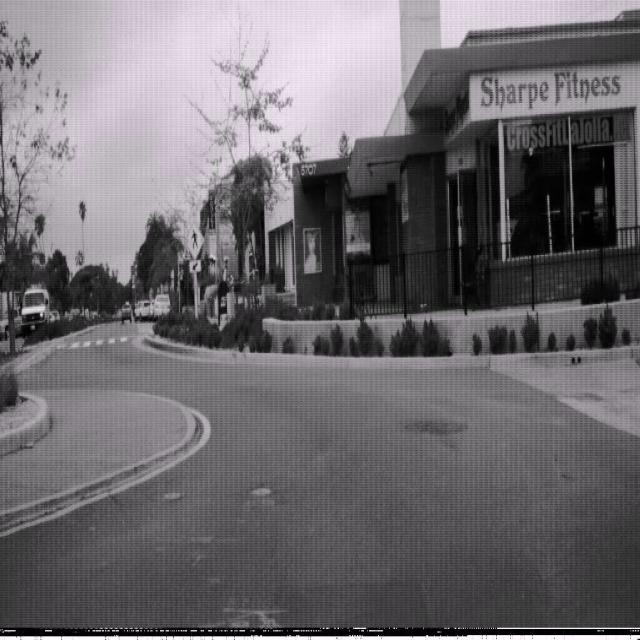pedestrianCrossing: (184, 219, 205, 260)
